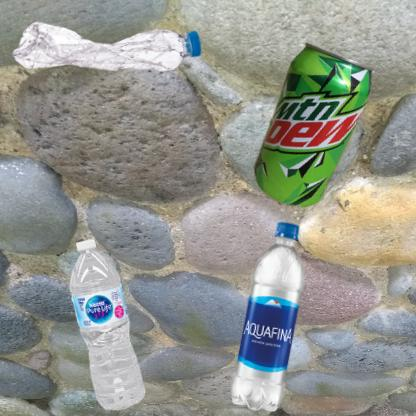botella: (10, 213, 210, 416), (213, 213, 343, 416), (10, 10, 206, 76)
lata: (213, 10, 416, 269)
